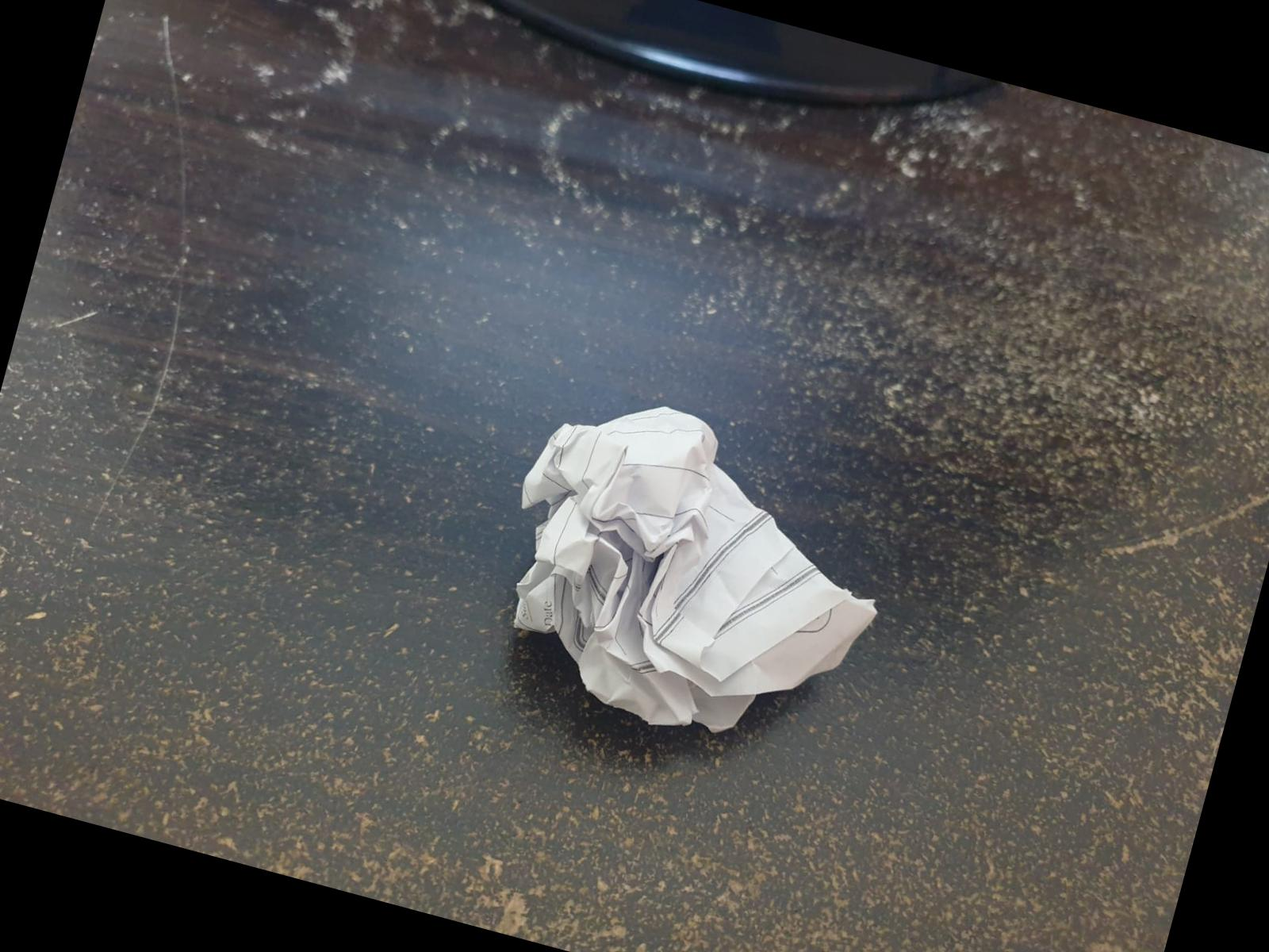Kertas: (515, 407, 875, 731)
